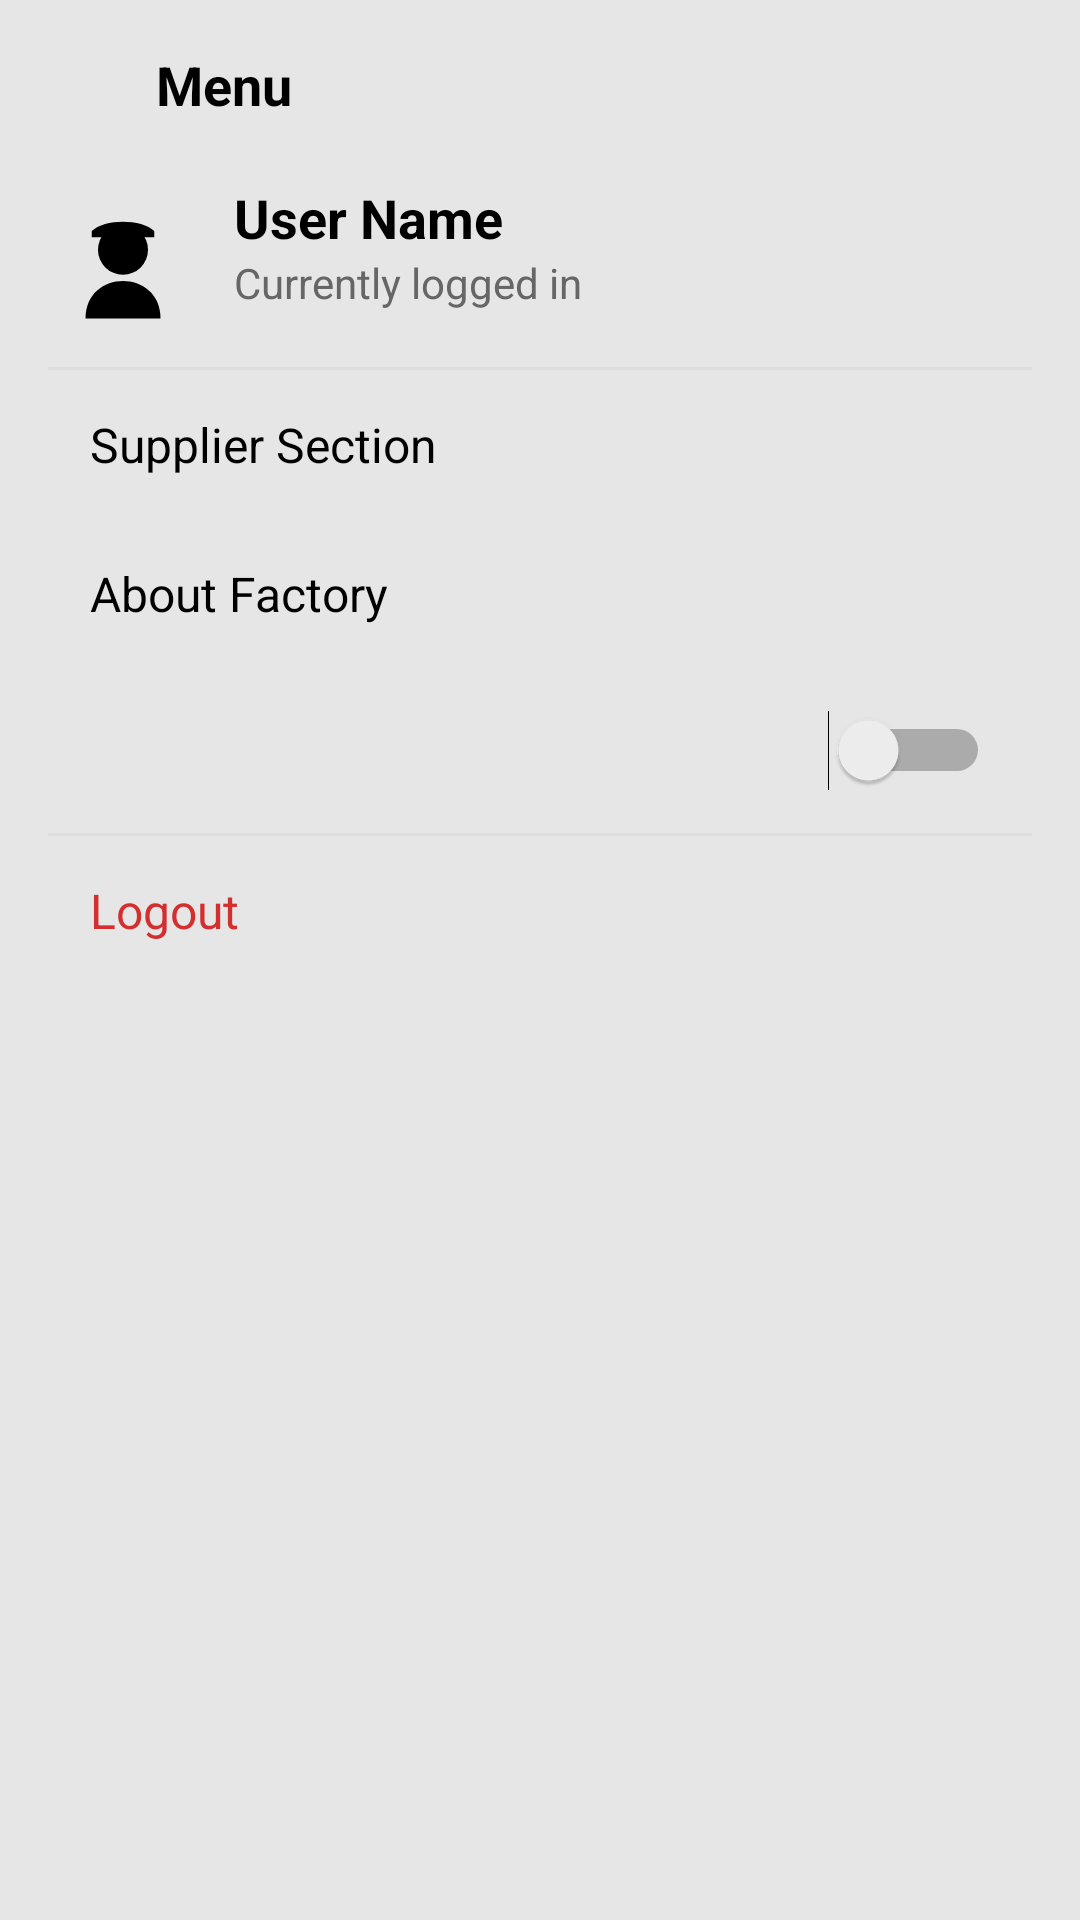

Screen size 1080px x 1920px. Icon name, then its box in pixels as box(x1, y1, x2, y2):
farmer modern: box(85, 221, 161, 319)
